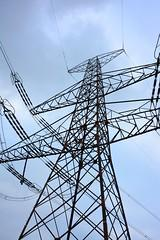power_tower: (2, 44, 160, 240)
